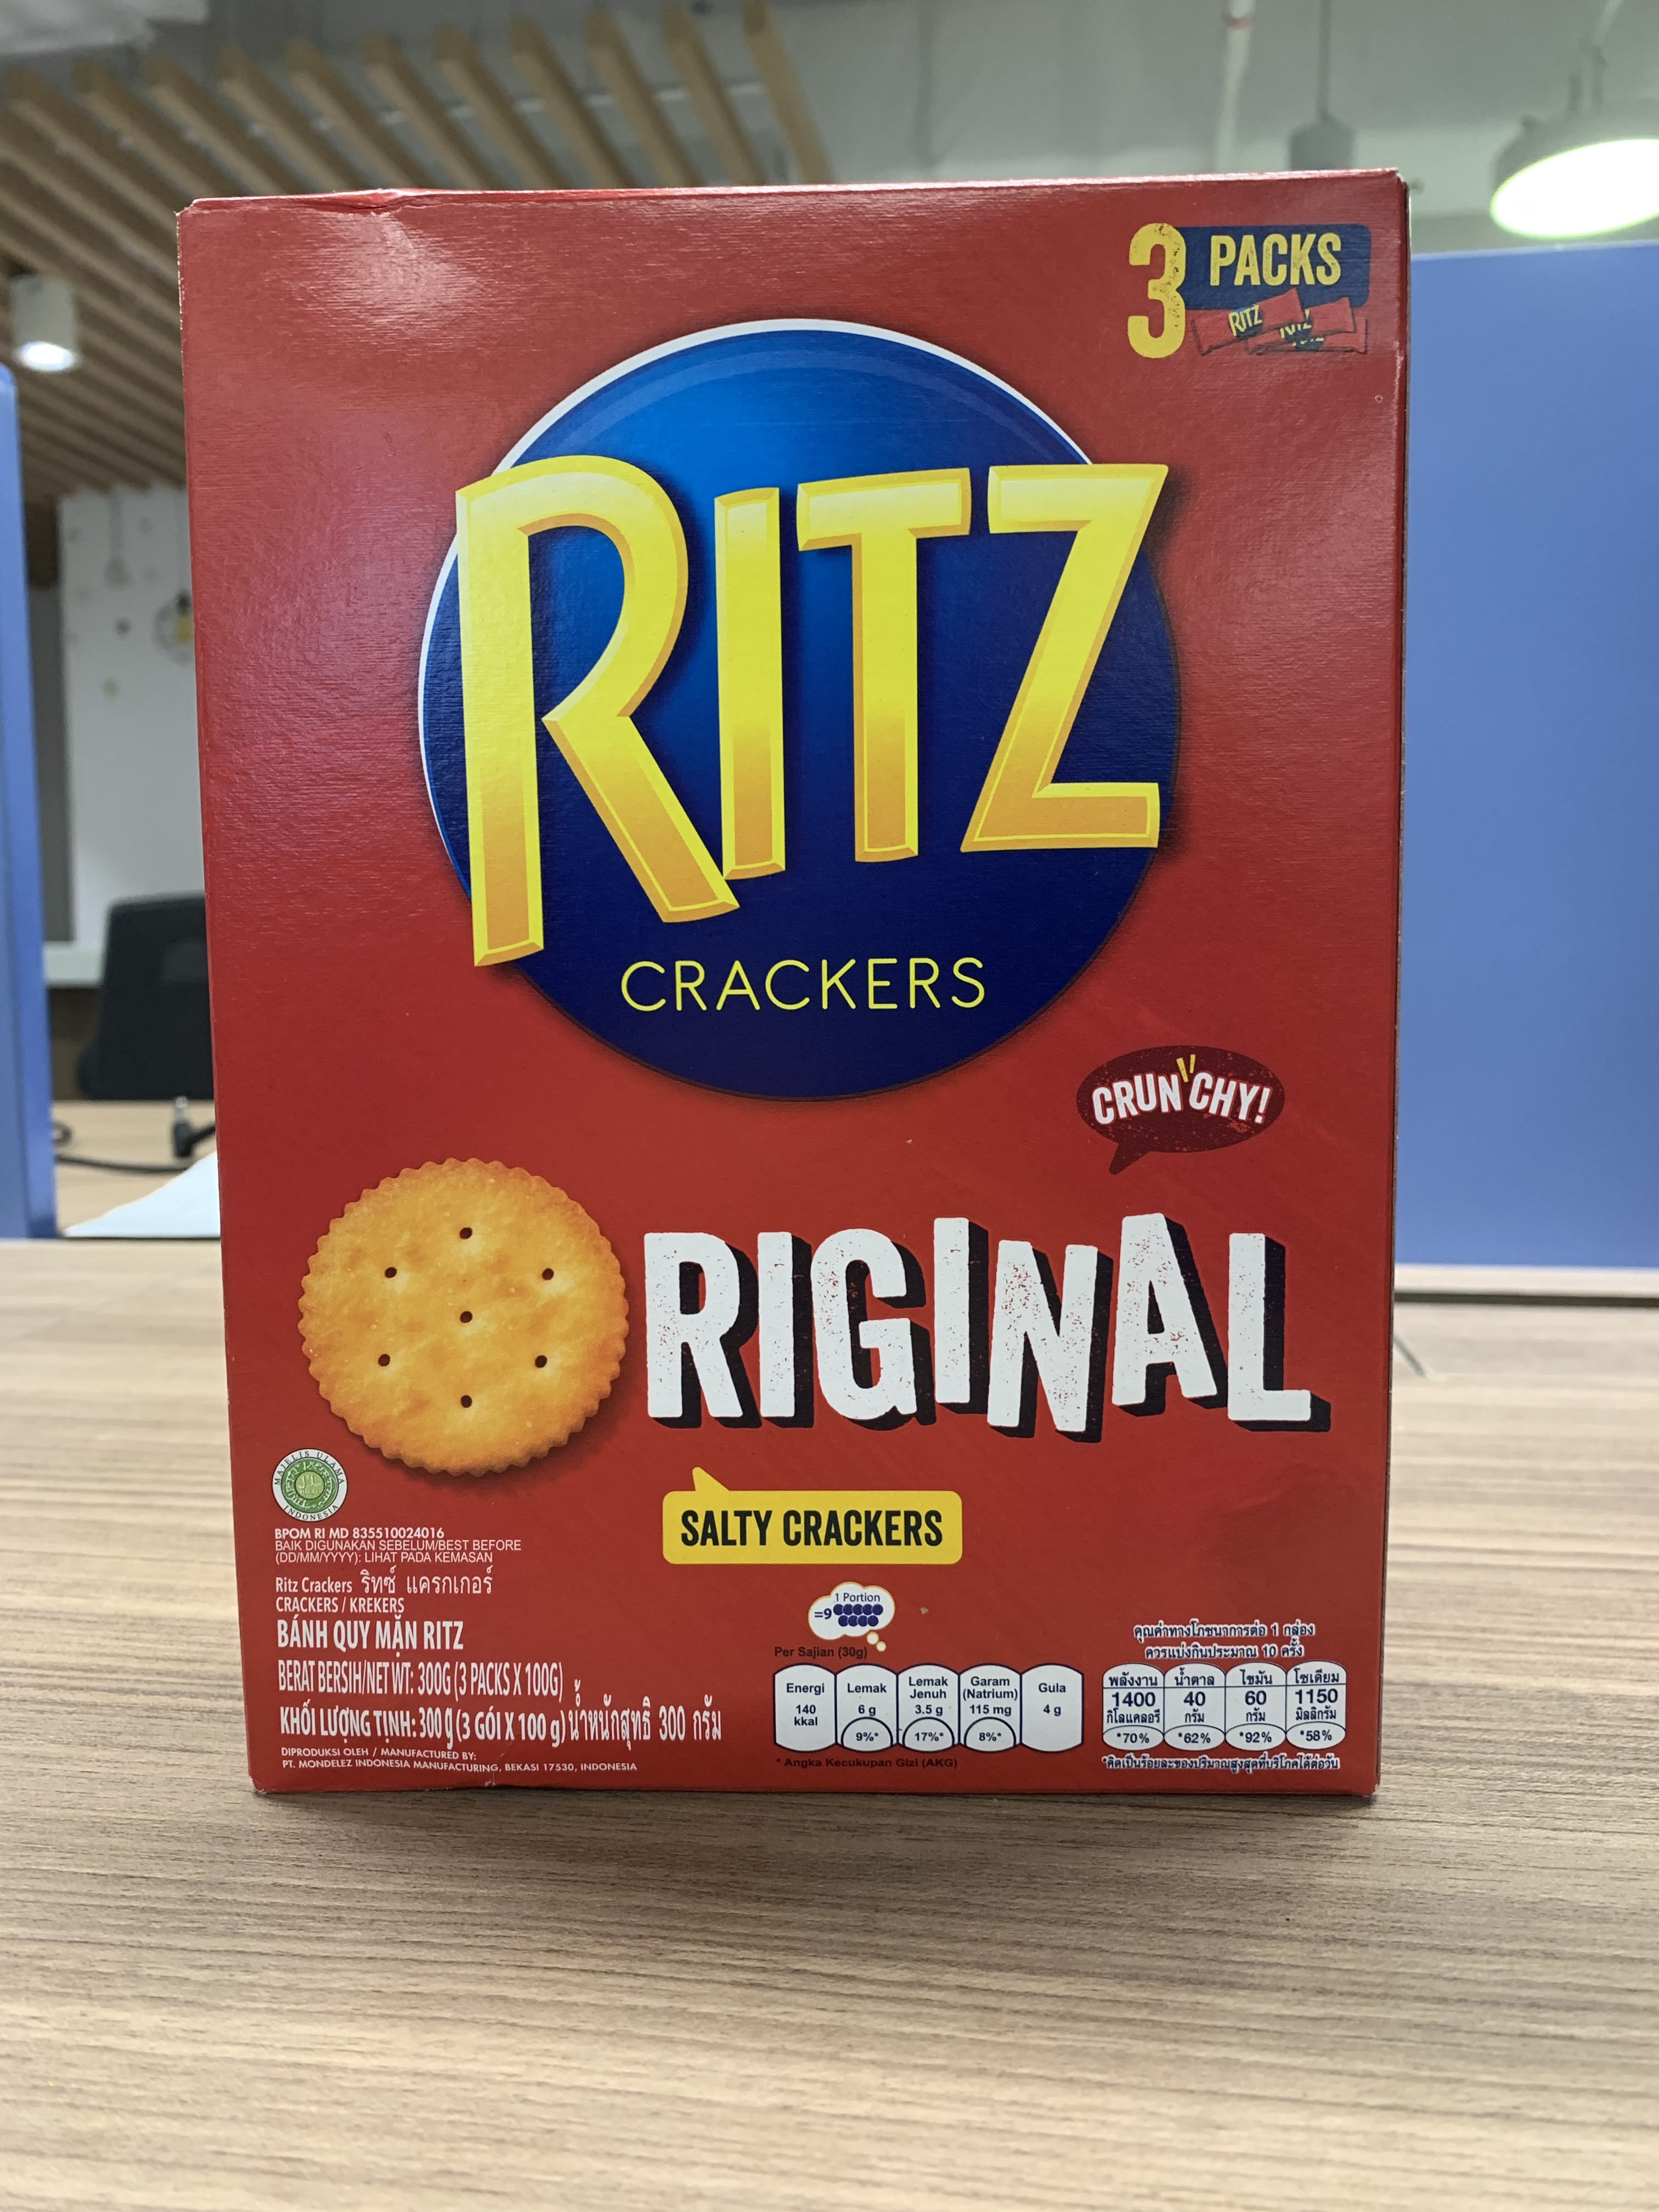crackers_300g-399g: (218, 190, 1377, 1789)
